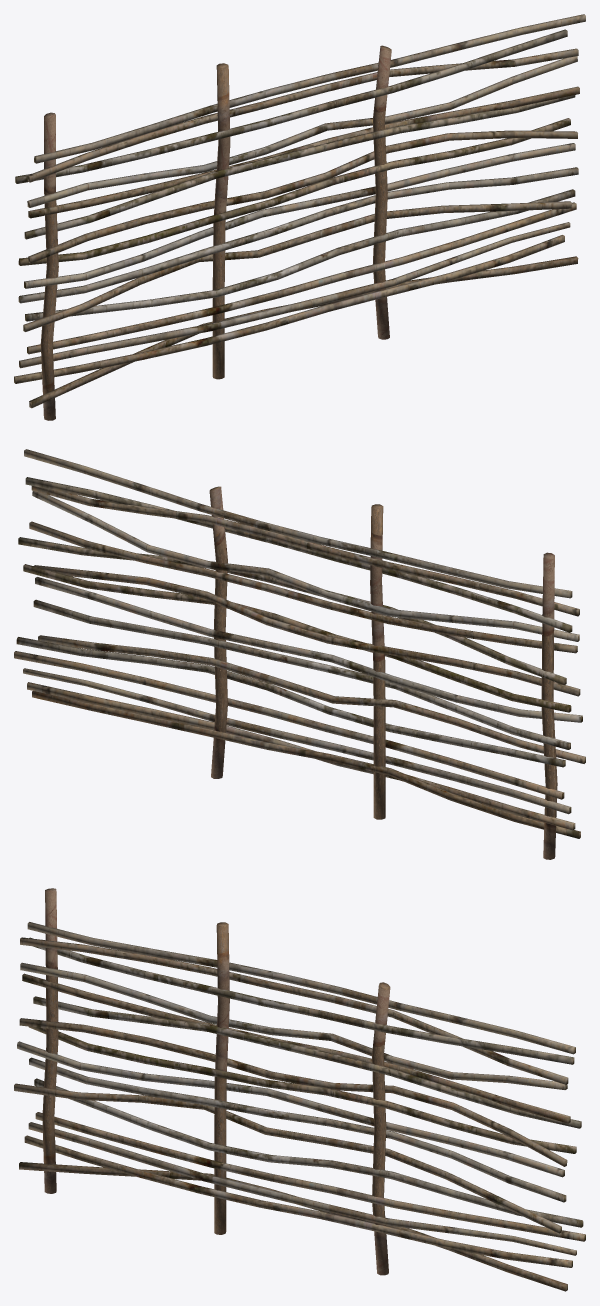
The model's file is fence_wattle.glb.
3 renders of one model, top to bottom at view 1: azimuth 30°, elevation 25°; view 2: azimuth 150°, elevation 25°; view 3: azimuth 330°, elevation 25°, orthographic.
Parts seen in each view (by area): view 1: fence02_Log_0; view 2: fence02_Log_0; view 3: fence02_Log_0.
Part boxes in pixels (x1,y1,x2,y2): fence02_Log_0: (14,14,585,420); fence02_Log_0: (14,449,585,859); fence02_Log_0: (14,888,585,1291).
Size of the model in its own units: 2.25 by 1.19 by 0.0957.
1 material, 1 textured.
